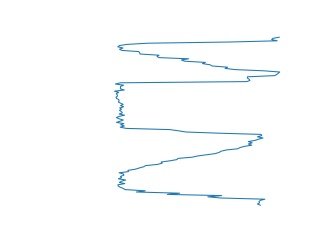distributaryChannelFill: (112, 73, 266, 142)
mouthBar: (114, 30, 283, 76)
underwaterDistributaryChannel: (112, 136, 268, 208)
